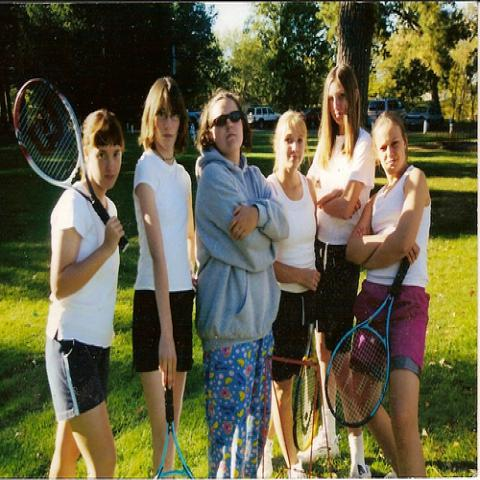car: (404, 102, 448, 132), (368, 99, 406, 124), (247, 108, 280, 123), (303, 104, 322, 128)
